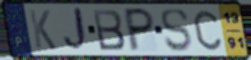B: (91, 8, 127, 52)
C: (192, 9, 224, 52)
J: (61, 6, 90, 54)
K: (27, 7, 58, 51)
P: (124, 7, 156, 54)
S: (159, 7, 193, 53)
